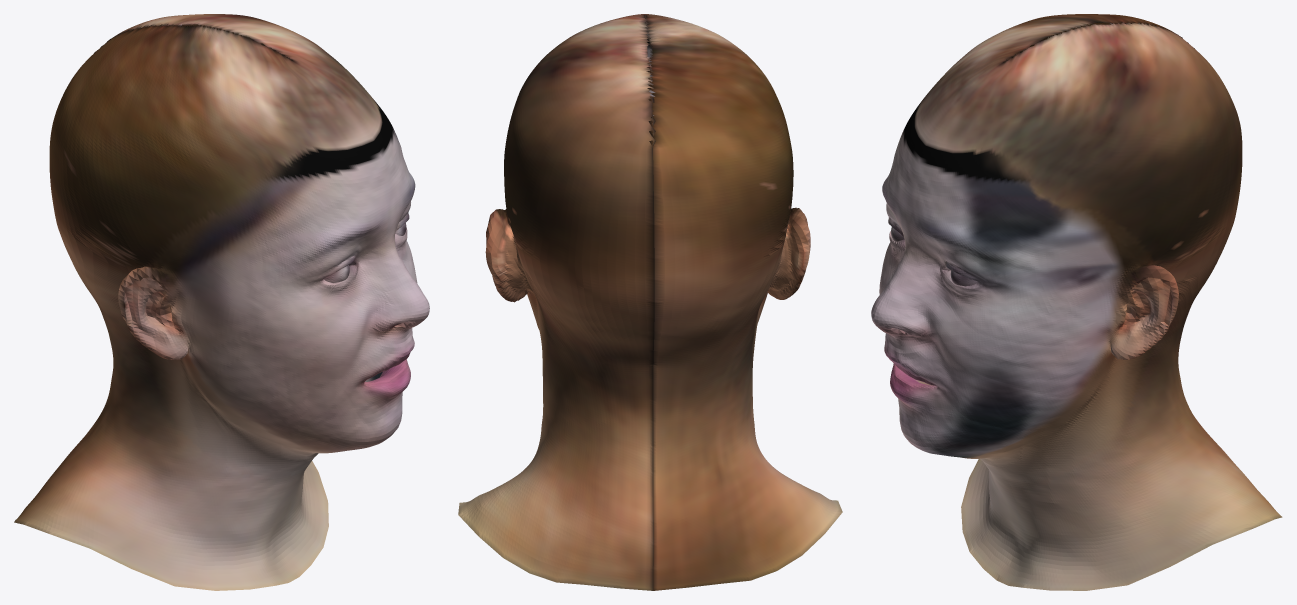
File: cheo1_frame0003_detail.obj
3 renders of one model, left to right at view 1: azimuth 30°, elevation 25°; view 2: azimuth 150°, elevation 25°; view 3: azimuth 270°, elevation 25°, orthographic.
Bounding box in the file's own units: 0.213 × 0.3203 × 0.2248.
